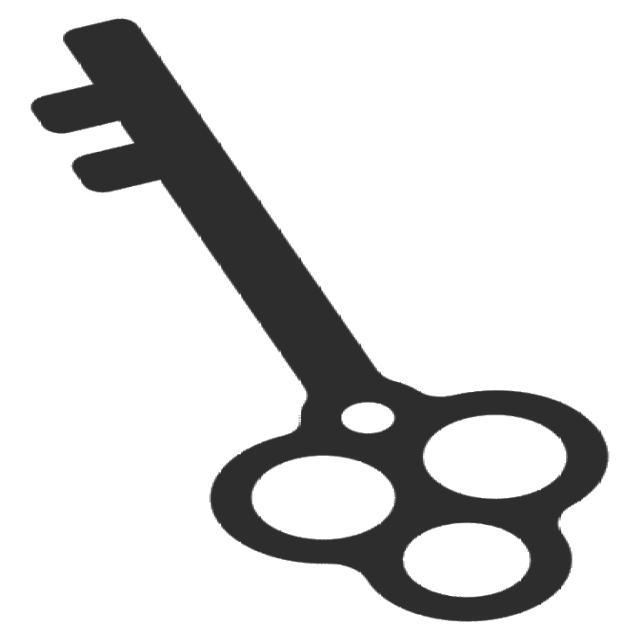key: (17, 11, 623, 632)
